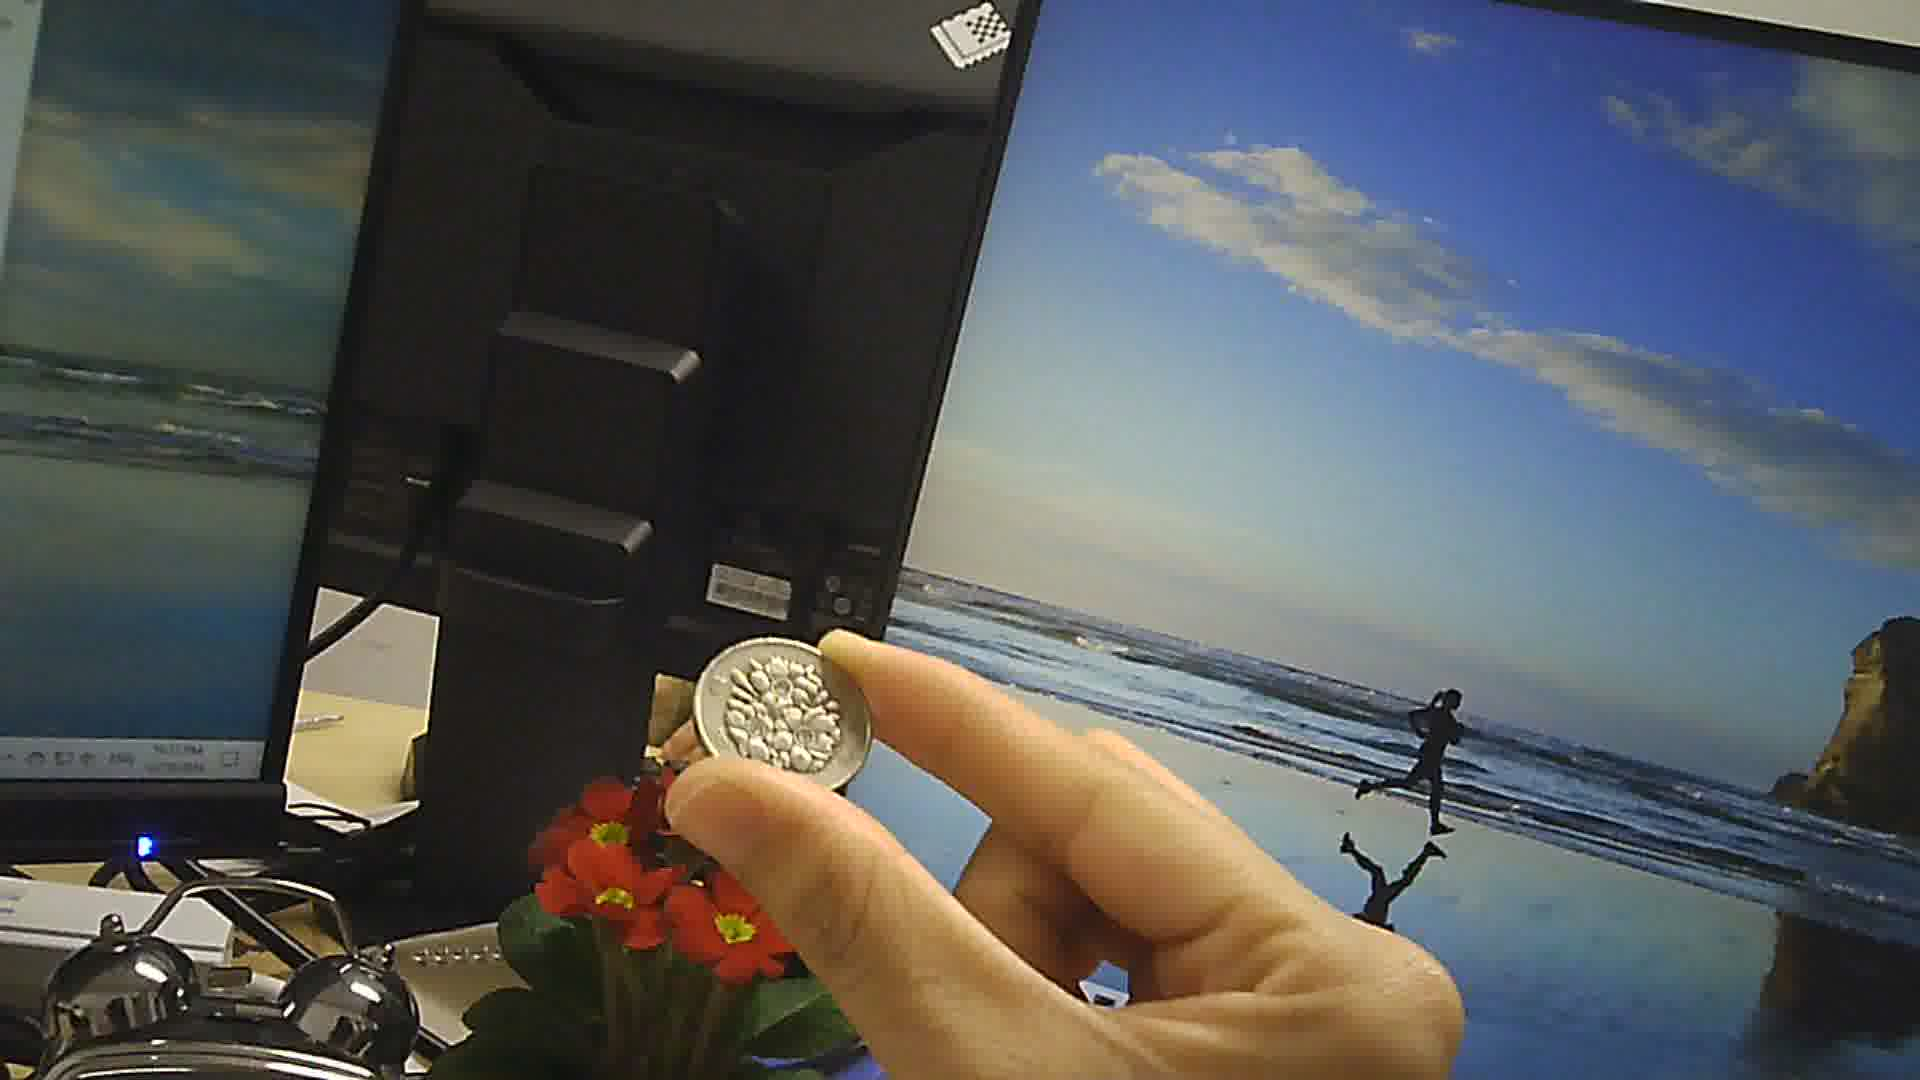100 Yen: (694, 629, 884, 811)
